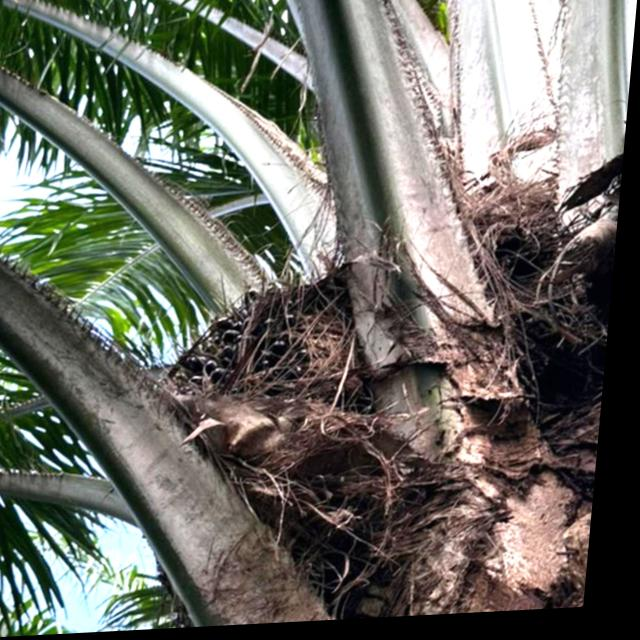almost: (176, 266, 394, 443)
